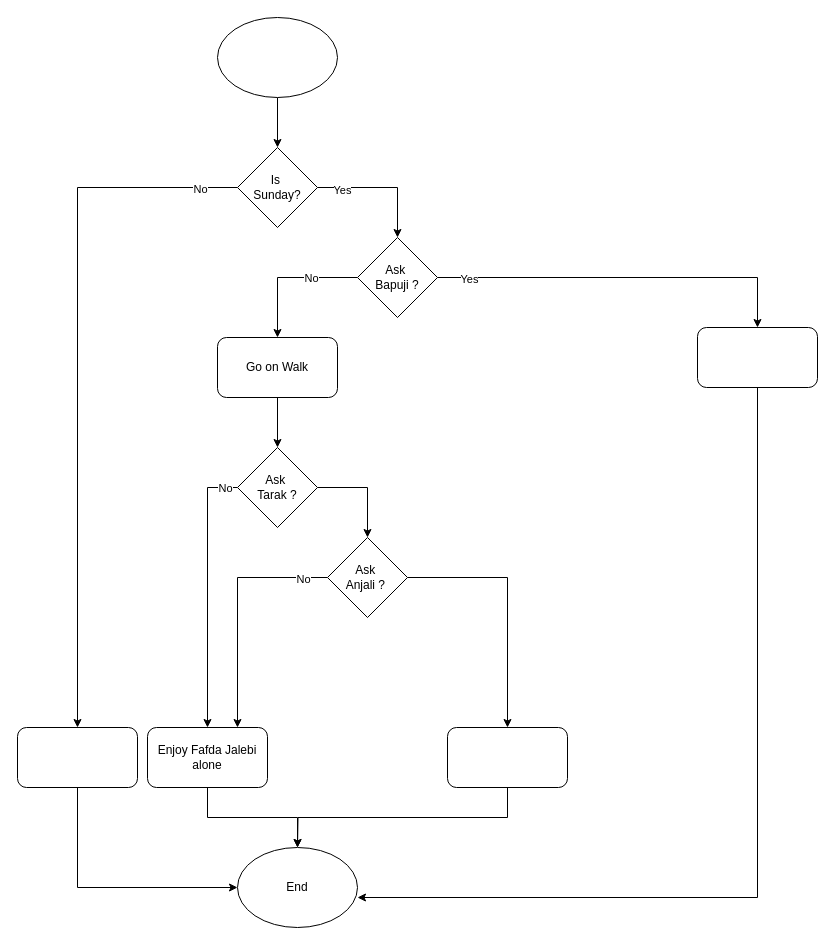
Some shapes in this 835 by 945 pixel diagram are drawn without their labels. The centre of each missing label's shape, as x and y in pixels:
Both Enjoy Fafda jalebi: the point at 507,757
Go to Shop: the point at 77,757
Start: the point at 277,57
Tell Daya and Enjoy with family: the point at 757,357
